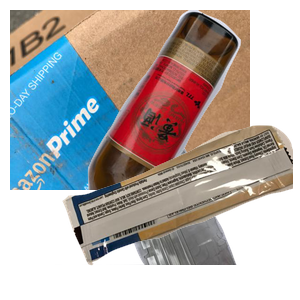cardboard: (10, 10, 250, 190)
glass: (85, 10, 300, 190)
plastic: (55, 120, 284, 300)
trash: (60, 123, 300, 300)
